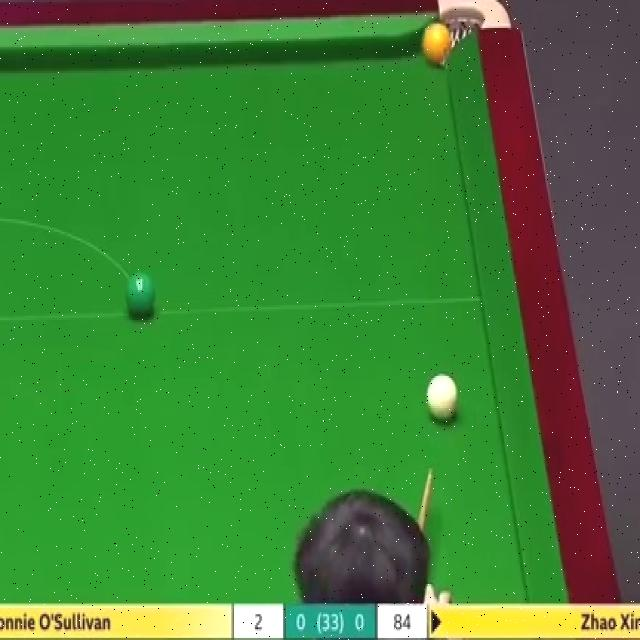green-ball: (125, 270, 156, 320)
white-ball: (425, 371, 461, 421)
yellow-ball: (422, 24, 450, 66)
